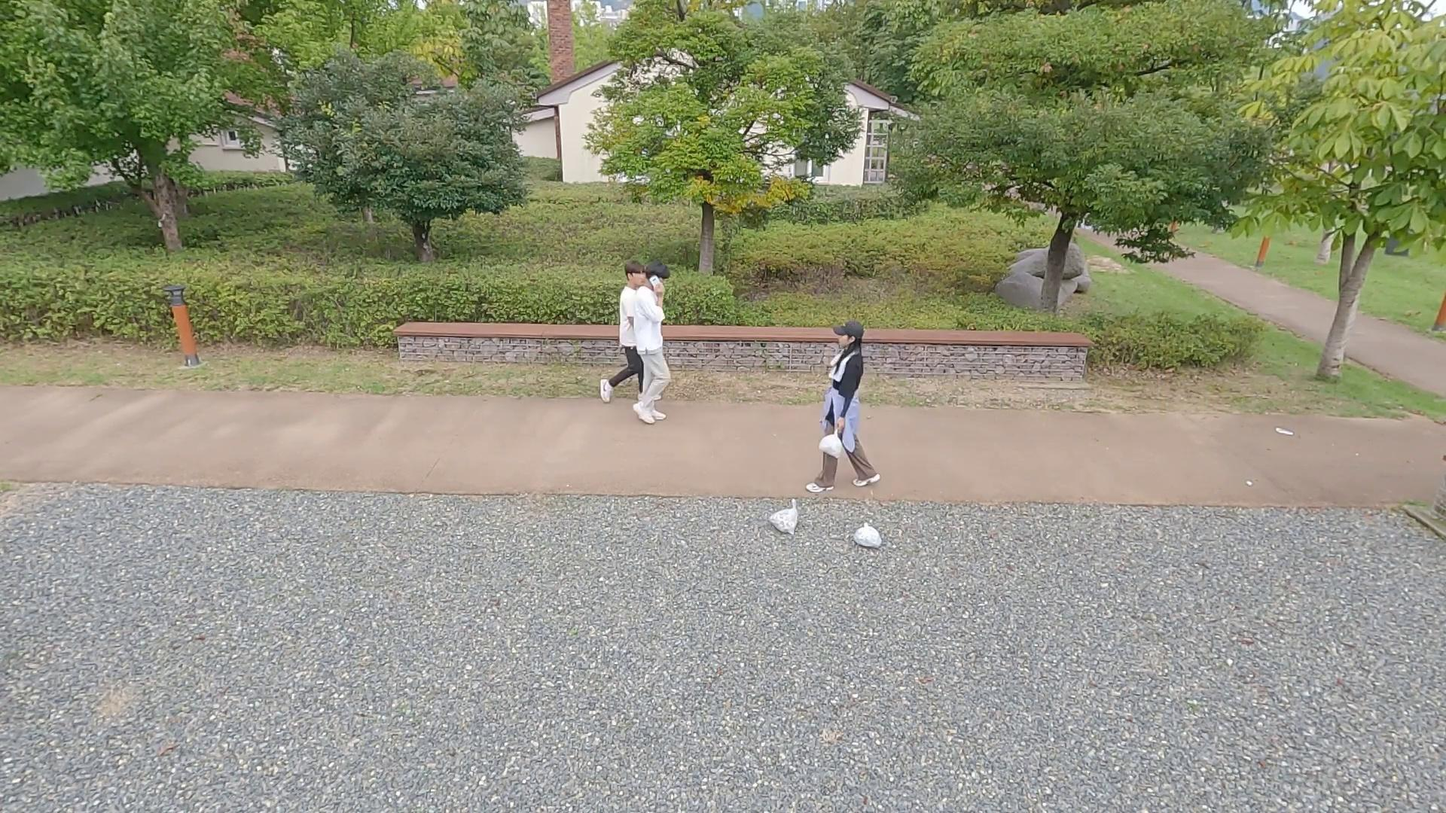person: (804, 313, 886, 496), (598, 256, 656, 411), (633, 261, 673, 426)
trash: (764, 499, 811, 542), (844, 519, 890, 556), (815, 425, 847, 465)
